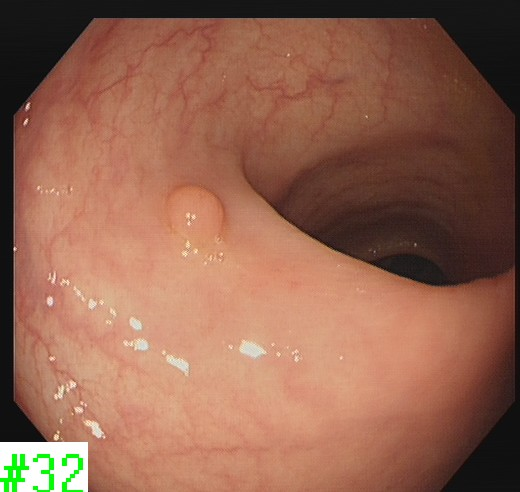adenoma: (161, 183, 227, 251)
